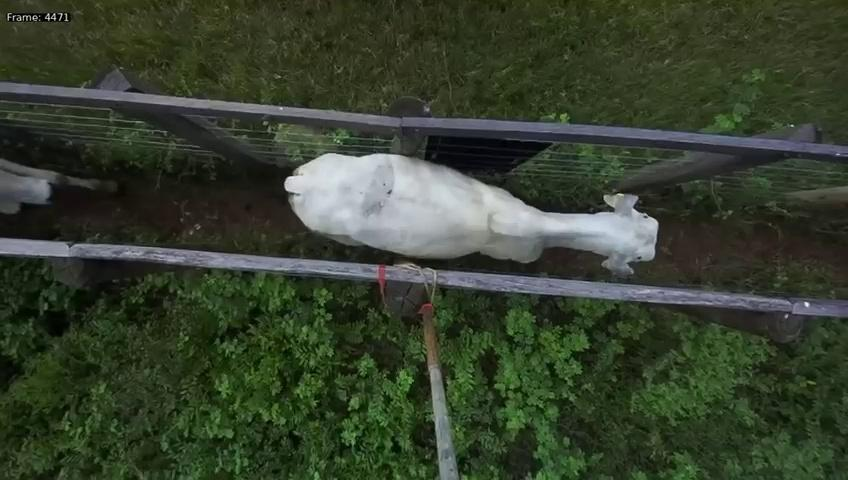cattle: (281, 127, 660, 280)
